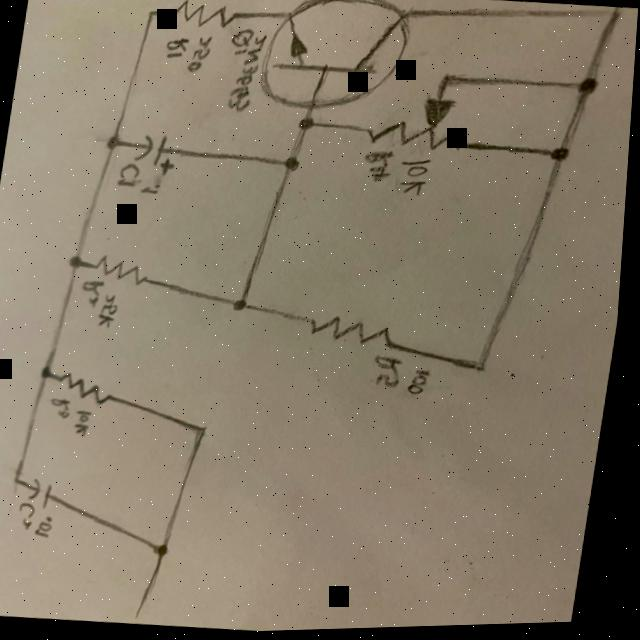capacitor: (131, 133, 180, 178), (31, 477, 59, 506)
junction: (539, 139, 582, 172), (460, 352, 503, 384), (567, 74, 605, 106), (149, 537, 185, 564), (187, 417, 222, 442), (275, 151, 307, 178), (589, 9, 626, 32), (227, 291, 258, 318), (96, 129, 125, 156), (61, 248, 88, 276), (291, 113, 321, 138), (433, 71, 463, 92), (35, 361, 59, 385), (140, 5, 161, 25), (8, 469, 30, 488)
resistor: (364, 91, 468, 157), (306, 314, 402, 353), (57, 369, 120, 405), (168, 0, 238, 31), (92, 253, 154, 287)
terminal: (128, 589, 165, 626)
text: (225, 34, 266, 115), (395, 155, 437, 201), (369, 354, 408, 393), (359, 149, 398, 185), (184, 34, 213, 75), (97, 293, 126, 333), (407, 366, 438, 403), (79, 277, 109, 310), (71, 408, 98, 439), (160, 34, 187, 64), (114, 162, 144, 189), (227, 27, 254, 57), (16, 501, 42, 531), (36, 512, 62, 542), (48, 396, 76, 421), (139, 183, 167, 202)
transistor: (253, 0, 416, 120)
